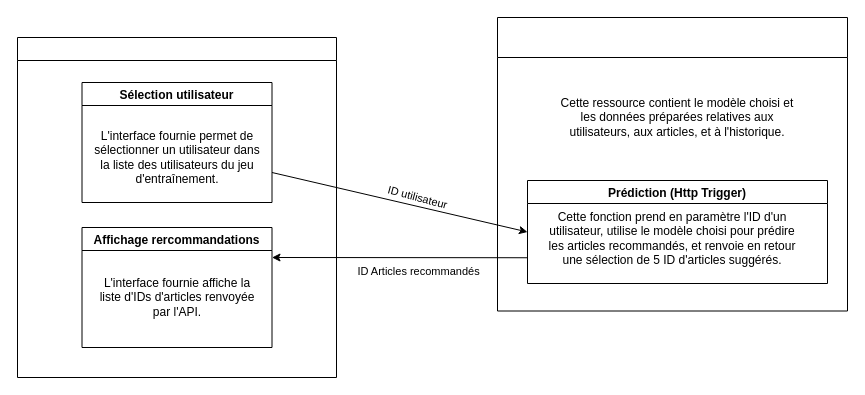
Some shapes in this 865 by 395 pixel diagram are drawn without their labels. Each missing label, with the box of its shape:
Application Mobile: (16, 36, 336, 378)
Système de recommandations (Azure Function): (496, 16, 848, 311)
